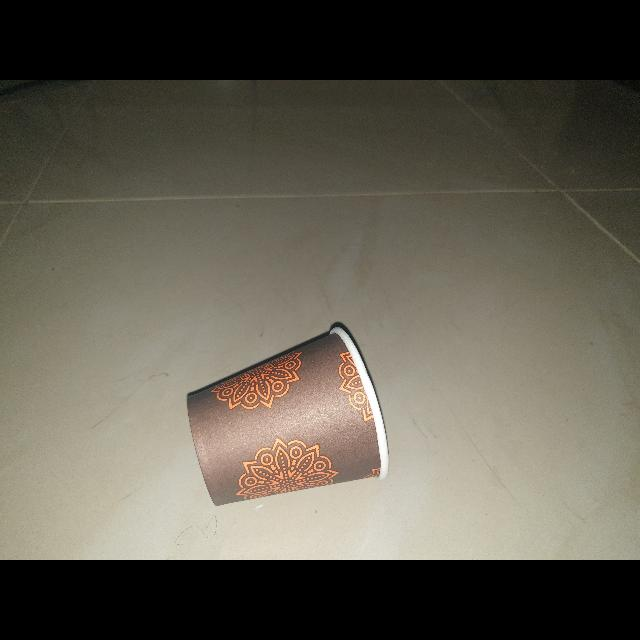trash: (182, 316, 392, 512)
